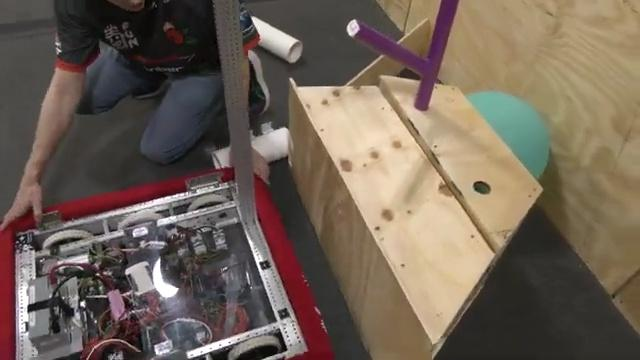CORAL: (210, 126, 294, 174), (248, 13, 303, 64)
